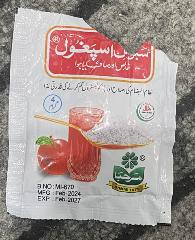general: (6, 7, 178, 225)
